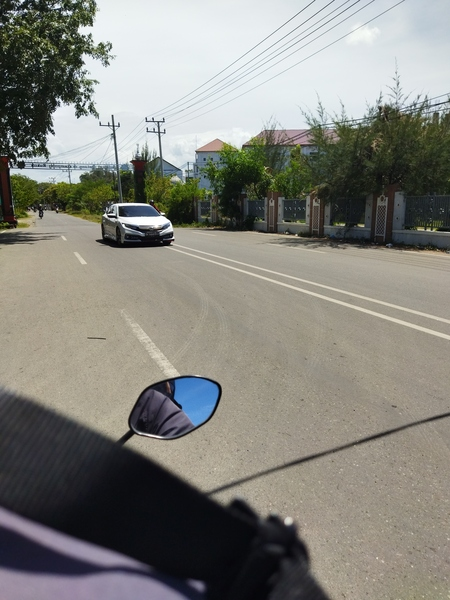car: (97, 201, 177, 251)
